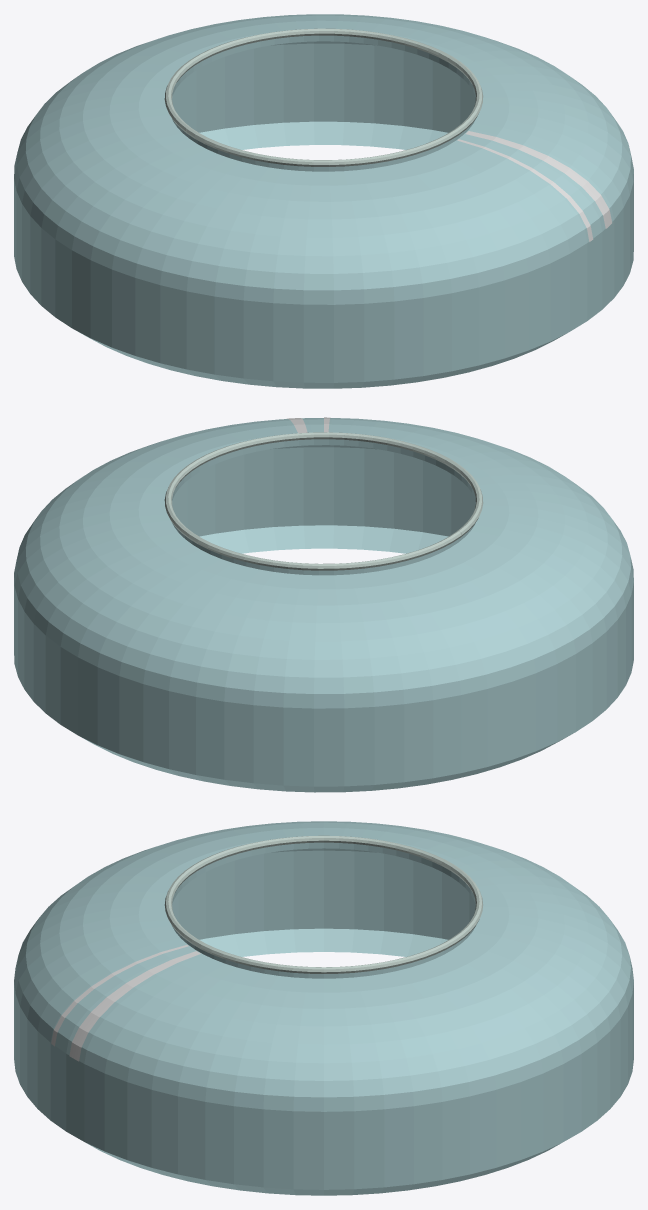
File: goo_jar_glass_2_top.fbx
3 renders of one model, top to bottom at view 1: azimuth 30°, elevation 25°; view 2: azimuth 150°, elevation 25°; view 3: azimuth 270°, elevation 25°, orthographic.
Visible parts, largest first — view 1: goo_jar_glass_2_top; view 2: goo_jar_glass_2_top; view 3: goo_jar_glass_2_top.
Boxes of the visible parts, bbox=[...] form: goo_jar_glass_2_top: bbox=[14, 14, 633, 388]; goo_jar_glass_2_top: bbox=[14, 417, 633, 792]; goo_jar_glass_2_top: bbox=[14, 821, 633, 1195].
Size of the model in its own units: 54 by 16.52 by 54.
